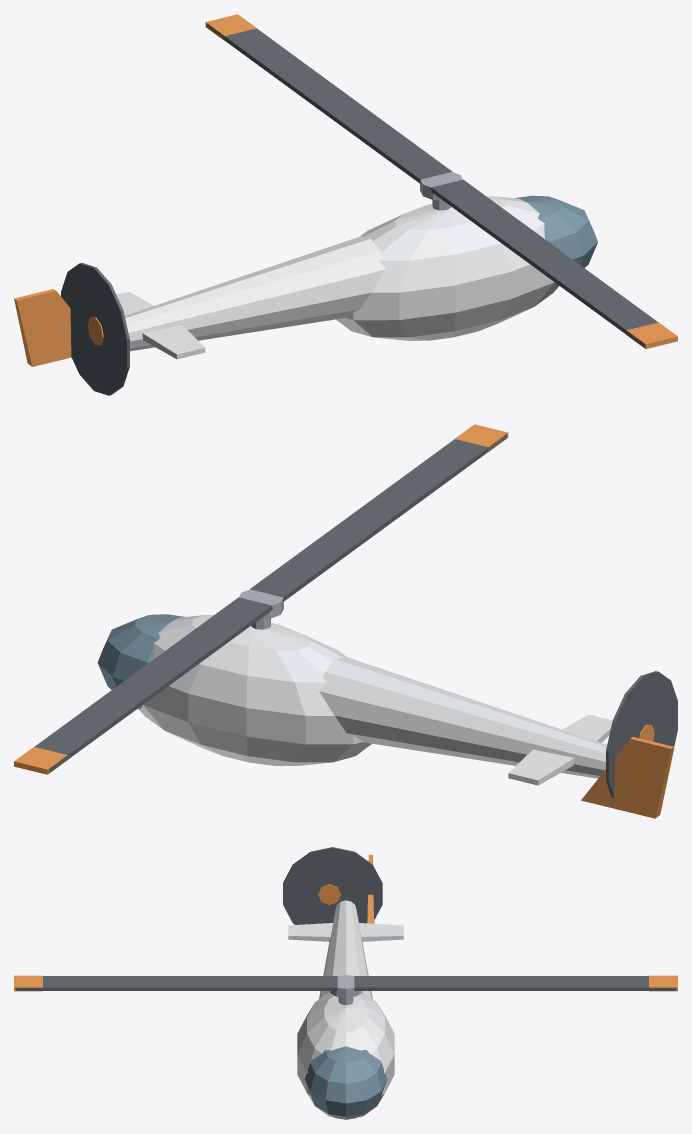
Rendered from helicopter.glb.
3 views of the same model, one above another, from view 1: azimuth 30°, elevation 25°; view 2: azimuth 150°, elevation 25°; view 3: azimuth 270°, elevation 25° (orthographic). The views are drawn at different scales.
Bounding box in the file's own units: 5.93 × 1.59 × 8.05.
